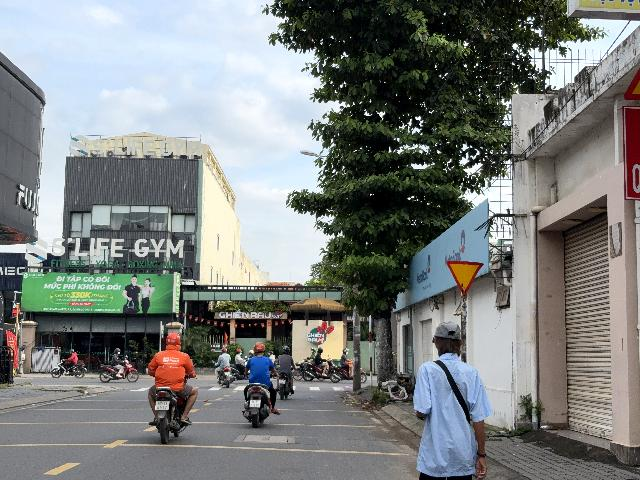giao-nhau-voi-duong-uu-tien: (446, 261, 484, 296)
